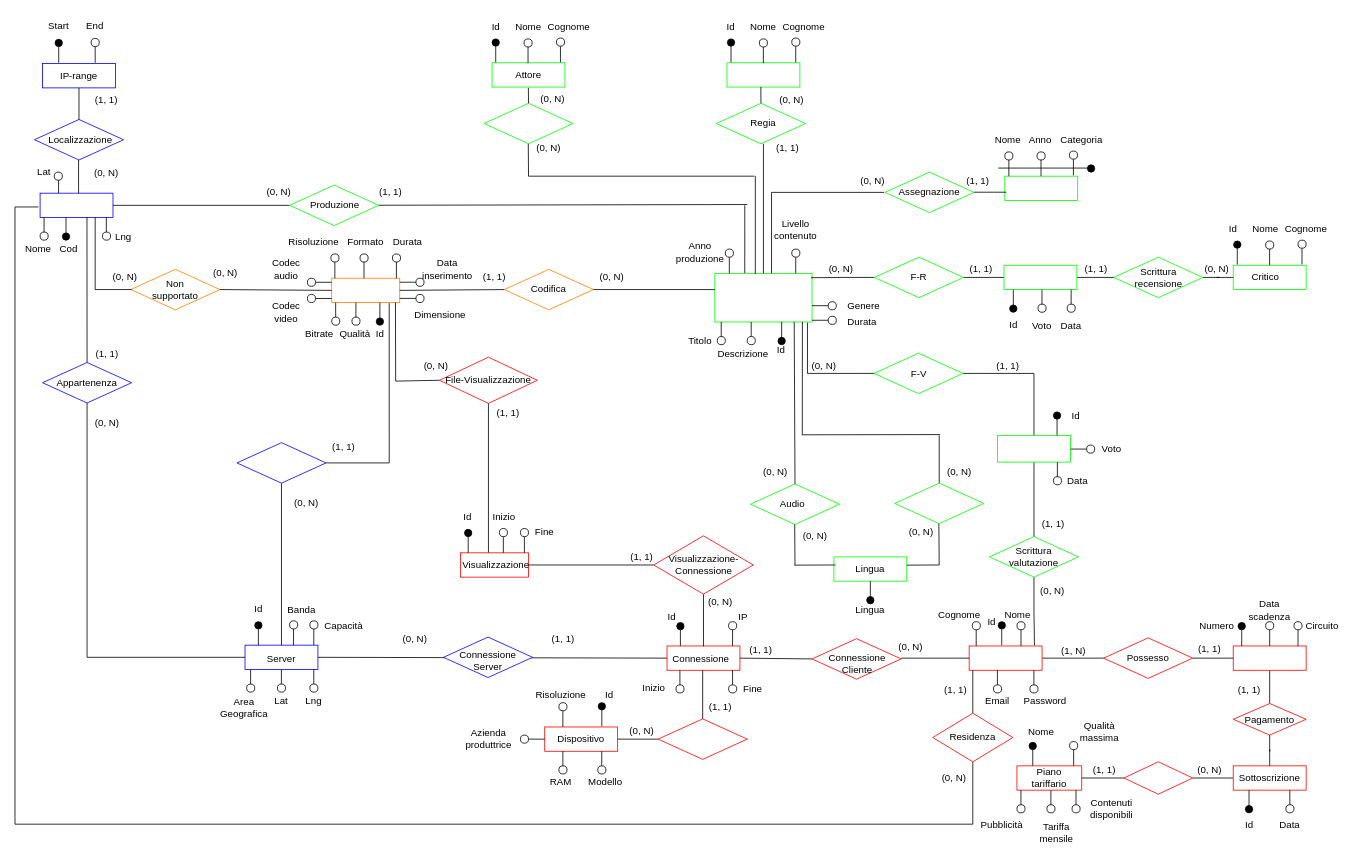
Some shapes in this 1361 by 859 pixel diagram are drawn without their labels. The shapes that lost their labels are listed below. From the top down, each one's centre as x and y in pixels, then its label:
At (x=763, y=74): "Regista".
At (x=528, y=123): "Parte".
At (x=76, y=204): "Paese".
At (x=1041, y=187): "Premio".
At (x=365, y=290): "File".
At (x=763, y=297): "Film".
At (x=1040, y=277): "Recensione".
At (x=281, y=462): "Presenza".
At (x=1033, y=448): "Valutazione".
At (x=939, y=503): "Sottotitoli".
At (x=1005, y=657): "Cliente".
At (x=1269, y=657): "Carta di credito".
At (x=702, y=738): "Mezzo".
At (x=1158, y=777): "Abbonamento".
